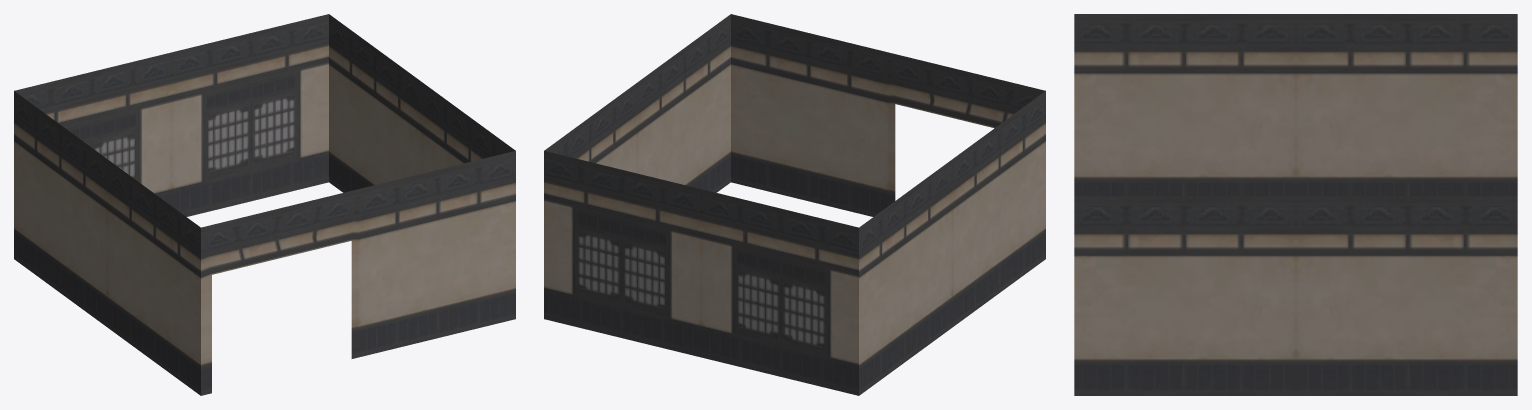
Rendered from Homeworld_Interior_Dq_Room_N_Filling_01_Vo.fbx.
3 views of the same model, side by side, from view 1: azimuth 30°, elevation 25°; view 2: azimuth 150°, elevation 25°; view 3: azimuth 270°, elevation 25° (orthographic). The views are drawn at different scales.
Visible parts, largest first — view 1: Homeworld_Interior_Dq_Room_N_Filling_01_Vo; view 2: Homeworld_Interior_Dq_Room_N_Filling_01_Vo; view 3: Homeworld_Interior_Dq_Room_N_Filling_01_Vo.
Boxes of the visible parts, x1=… form: Homeworld_Interior_Dq_Room_N_Filling_01_Vo: x1=14, y1=14, x2=515, y2=395; Homeworld_Interior_Dq_Room_N_Filling_01_Vo: x1=544, y1=14, x2=1045, y2=395; Homeworld_Interior_Dq_Room_N_Filling_01_Vo: x1=1074, y1=14, x2=1517, y2=395.
Size of the model in its own units: 9.75 by 4.98 by 10.02.
